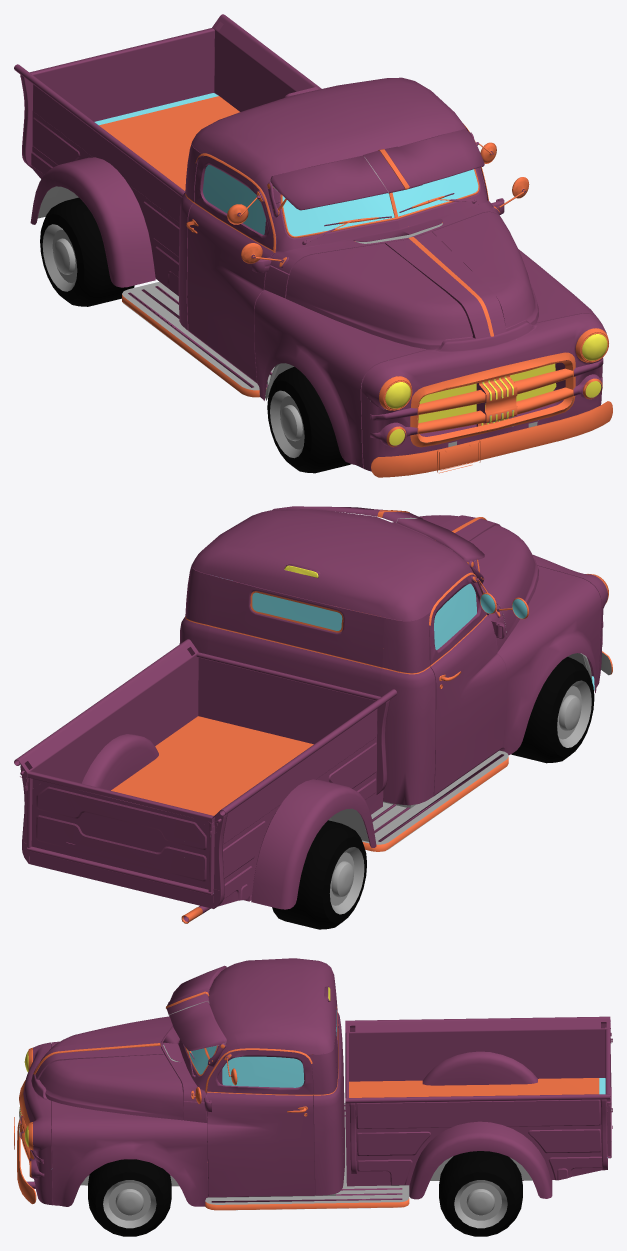
File: Car_Opt_Truck.fbx
3 views of the same model, one above another, from view 1: azimuth 30°, elevation 25°; view 2: azimuth 150°, elevation 25°; view 3: azimuth 270°, elevation 25° (orthographic). The views are drawn at different scales.
Visible parts, largest first — view 1: front_hood, cowling, door_R, wheel_3, wheel_4; view 2: front_hood, door_R, wheel_3, wheel_4, cowling; view 3: front_hood, door_L, cowling, wheel_1, wheel_2.
Part boxes in pixels (box(x1,y1,x2,y2)): front_hood: box(14, 14, 612, 477); cowling: box(285, 212, 538, 352); door_R: box(186, 156, 273, 382); wheel_3: box(40, 197, 134, 306); wheel_4: box(267, 366, 350, 473); front_hood: box(14, 506, 612, 923); door_R: box(429, 575, 506, 795); wheel_3: box(272, 820, 366, 929); wheel_4: box(511, 657, 594, 763); cowling: box(392, 515, 538, 638); front_hood: box(14, 958, 612, 1210); door_L: box(204, 1049, 314, 1197); cowling: box(31, 1016, 183, 1120); wheel_1: box(439, 1151, 522, 1236); wheel_2: box(88, 1159, 171, 1236).
Size of the model in its own units: 209 by 179 by 484.
